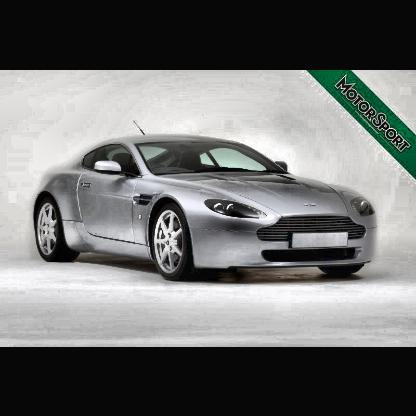Aston Martin V8 Vantage Coupe 2012: (32, 117, 378, 280)
